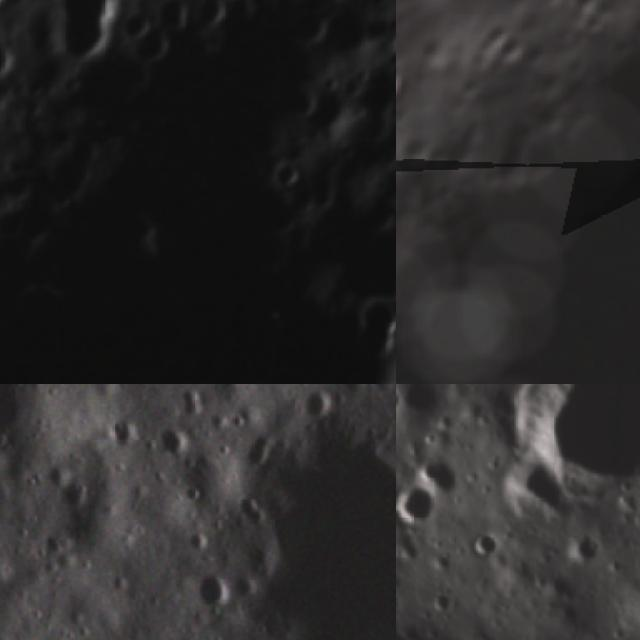crater: (212, 384, 396, 640), (497, 384, 640, 497), (46, 0, 123, 59), (179, 550, 241, 618), (317, 0, 376, 55), (147, 411, 201, 459), (357, 291, 396, 357), (478, 21, 531, 69), (396, 481, 439, 533), (396, 0, 478, 25), (291, 384, 338, 423), (571, 0, 614, 42), (461, 523, 502, 561), (396, 169, 417, 236), (396, 47, 416, 116), (269, 158, 308, 192), (0, 29, 18, 81), (561, 0, 607, 20), (396, 384, 411, 417)
